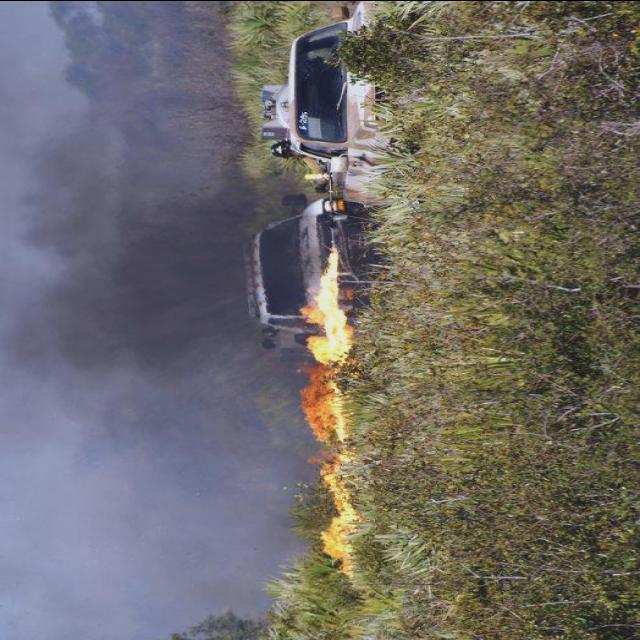Fire: (303, 237, 369, 577)
